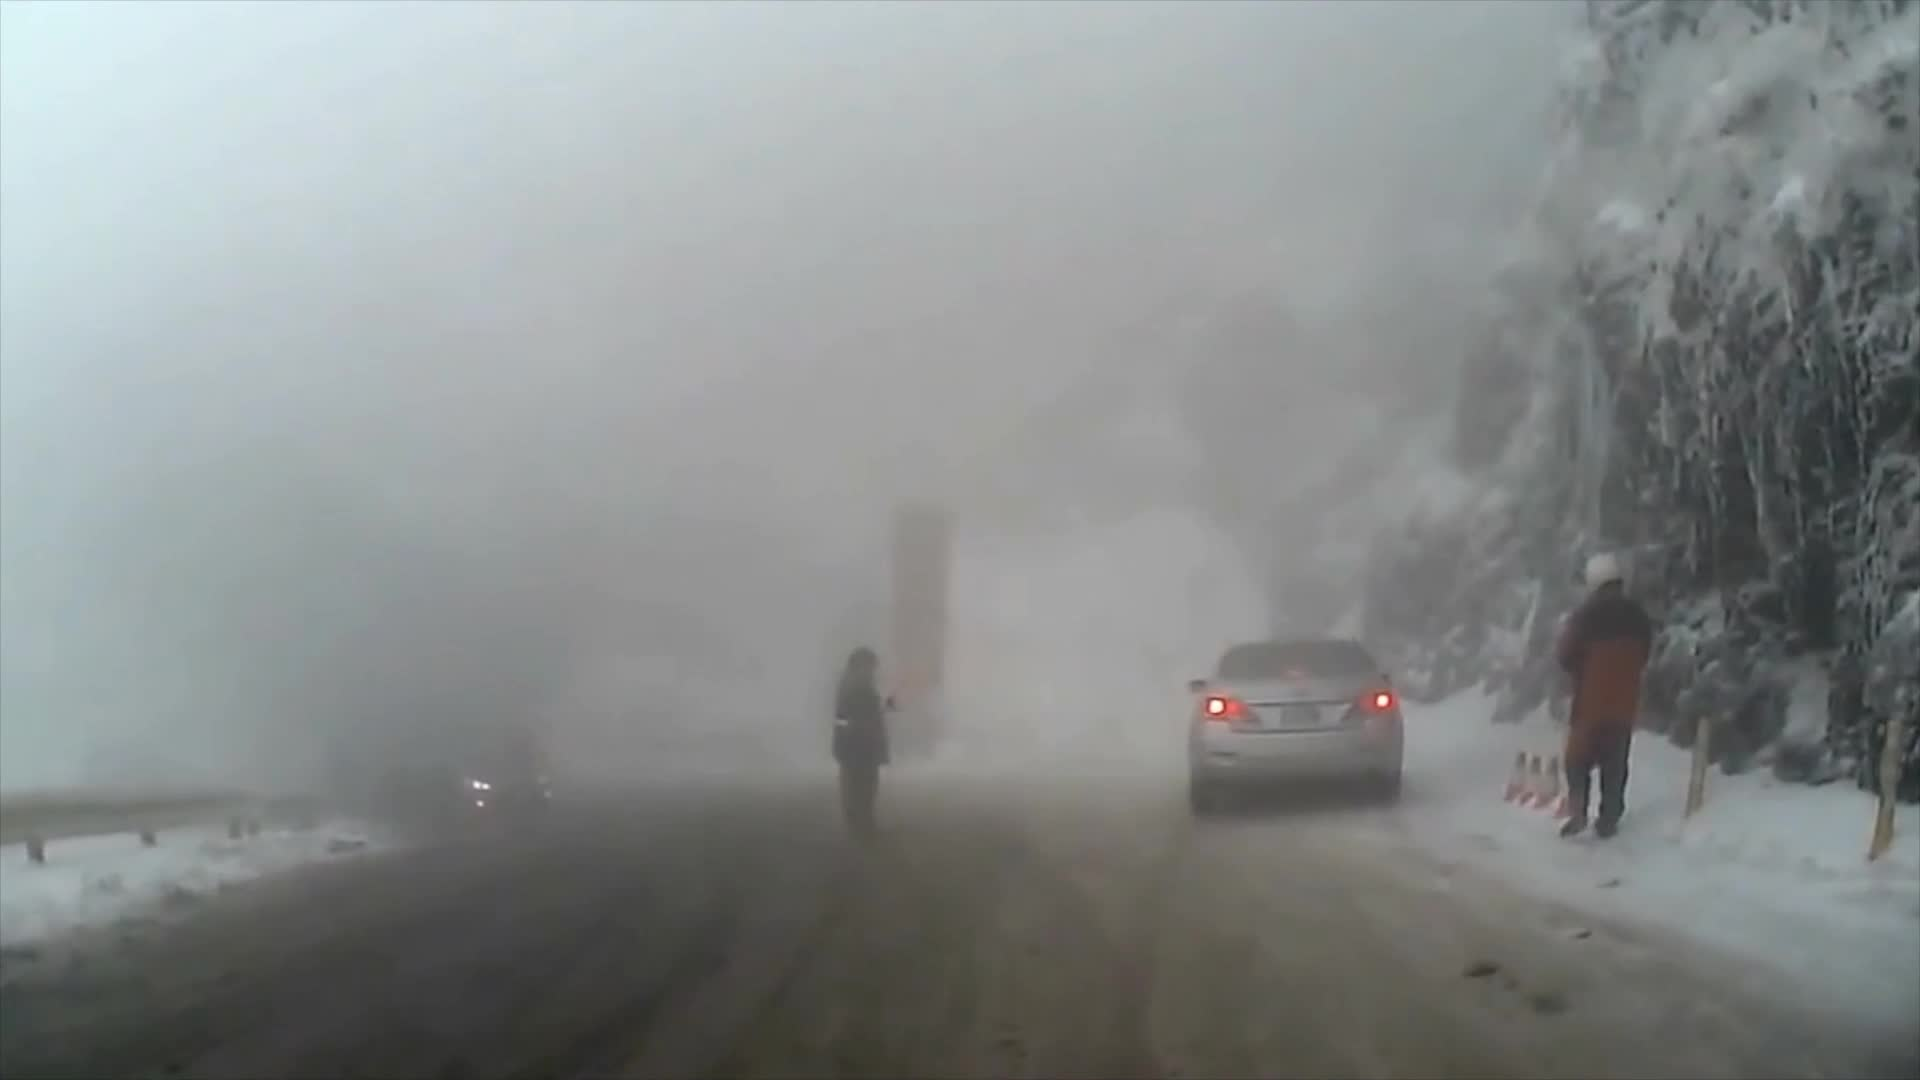pedestrian: (1550, 552, 1658, 848), (837, 645, 899, 835)
vehicle: (1186, 634, 1404, 814)
